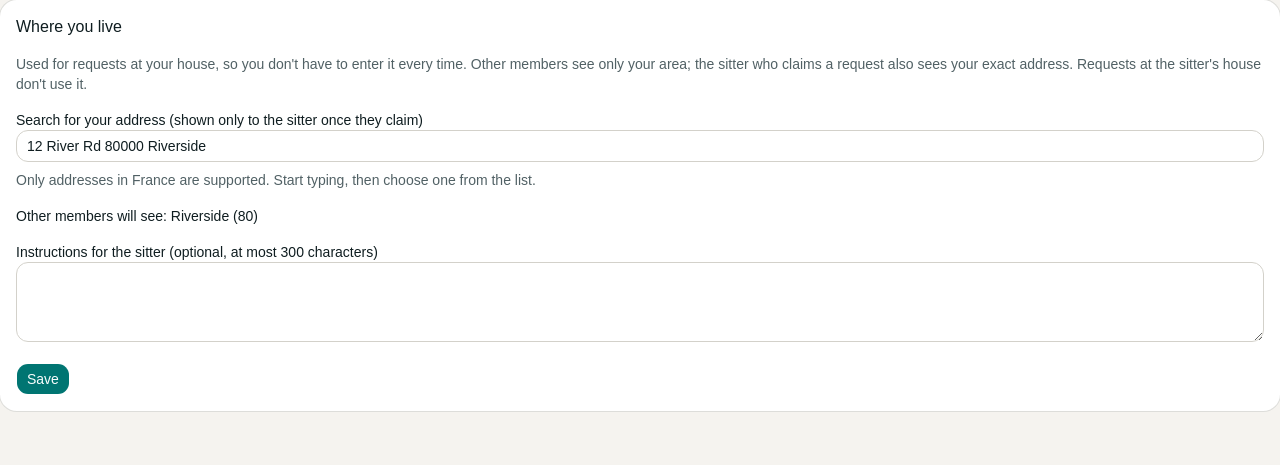
Test: ProfilePage › saves new instructions without picking the saved address again
In the text box labelled "Instructions": (640, 302) [16, 262, 1264, 342], type "back door"
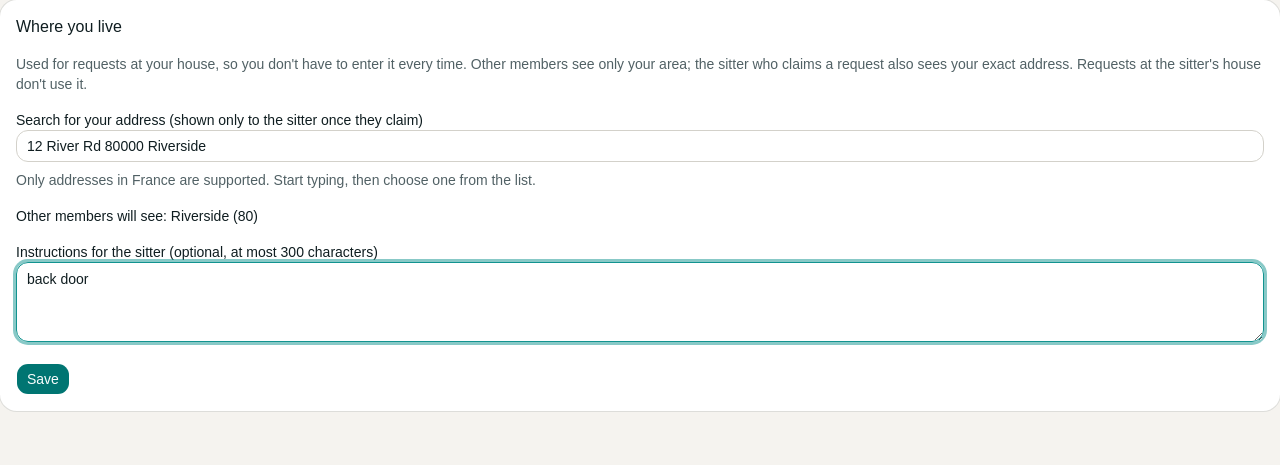
Click the button "Save": (43, 379) [16, 363, 70, 395]
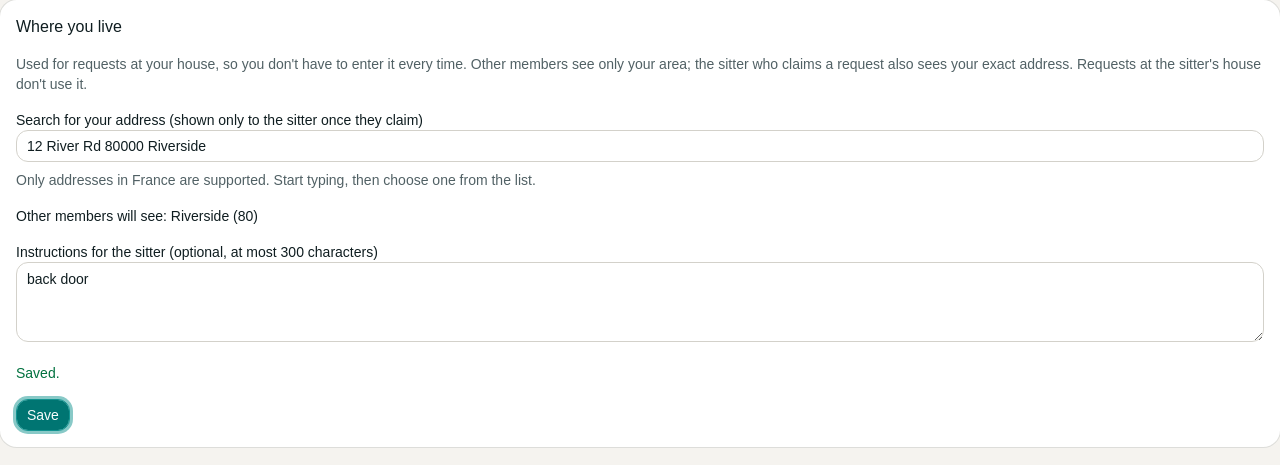
expect the message "Saved." is shown: met, box [16, 365, 60, 381]
